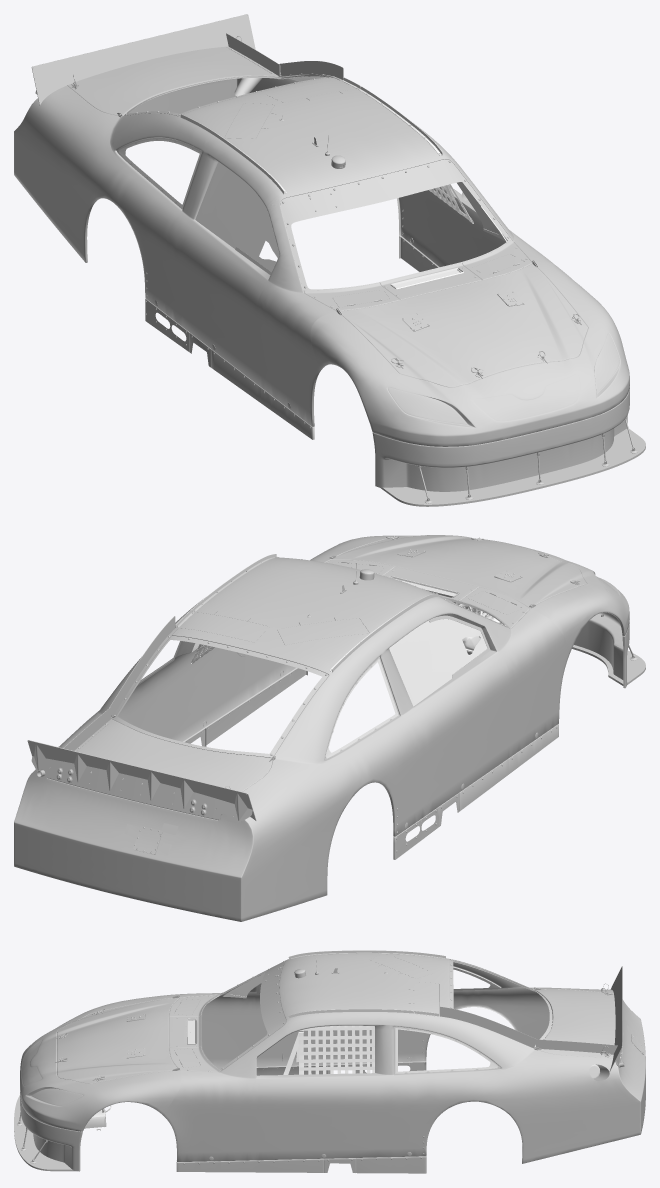
The model's file is CamryTheGame2011.glb.
3 views of the same model, one above another, from view 1: azimuth 30°, elevation 25°; view 2: azimuth 150°, elevation 25°; view 3: azimuth 270°, elevation 25° (orthographic). The views are drawn at different scales.
Parts seen in each view (by area): view 1: mesh_939_mesh_939, mesh_938_mesh_938, mesh_936_mesh_936, mesh_943_mesh_943, mesh_944_mesh_944, mesh_1436_mesh_1436, mesh_946_mesh_946, mesh_940_mesh_940, mesh_942_mesh_942, mesh_937_mesh_937, mesh_945_mesh_945, mesh_941_mesh_941; view 2: mesh_939_mesh_939, mesh_936_mesh_936, mesh_944_mesh_944, mesh_938_mesh_938, mesh_943_mesh_943, mesh_937_mesh_937, mesh_1436_mesh_1436, mesh_940_mesh_940, mesh_942_mesh_942, mesh_945_mesh_945, mesh_941_mesh_941, mesh_946_mesh_946 (+1 smaller); view 3: mesh_939_mesh_939, mesh_938_mesh_938, mesh_936_mesh_936, mesh_937_mesh_937, mesh_943_mesh_943, mesh_1097_mesh_1097, mesh_942_mesh_942, mesh_940_mesh_940, mesh_945_mesh_945, mesh_946_mesh_946, mesh_941_mesh_941, mesh_969_mesh_969 (+2 smaller).
Boxes of the visible parts, box(x1,y1,x2,y2) form: mesh_939_mesh_939: box(14, 72, 553, 439); mesh_938_mesh_938: box(310, 260, 629, 491); mesh_936_mesh_936: box(337, 260, 587, 387); mesh_943_mesh_943: box(67, 46, 280, 116); mesh_944_mesh_944: box(31, 14, 255, 105); mesh_1436_mesh_1436: box(195, 162, 279, 272); mesh_946_mesh_946: box(381, 428, 645, 506); mesh_940_mesh_940: box(118, 73, 527, 428); mesh_942_mesh_942: box(224, 80, 524, 307); mesh_937_mesh_937: box(110, 76, 324, 211); mesh_945_mesh_945: box(226, 33, 343, 80); mesh_941_mesh_941: box(180, 77, 442, 194); mesh_939_mesh_939: box(14, 557, 570, 921); mesh_936_mesh_936: box(331, 535, 586, 608); mesh_944_mesh_944: box(27, 740, 256, 823); mesh_938_mesh_938: box(310, 535, 629, 688); mesh_943_mesh_943: box(47, 719, 273, 819); mesh_937_mesh_937: box(98, 605, 402, 764); mesh_1436_mesh_1436: box(389, 619, 487, 706); mesh_940_mesh_940: box(111, 556, 557, 858); mesh_942_mesh_942: box(175, 561, 522, 644); mesh_945_mesh_945: box(63, 616, 178, 751); mesh_941_mesh_941: box(175, 554, 438, 672); mesh_946_mesh_946: box(572, 645, 645, 685); mesh_939_mesh_939: box(163, 953, 645, 1173); mesh_938_mesh_938: box(20, 994, 181, 1171); mesh_936_mesh_936: box(57, 995, 179, 1083); mesh_937_mesh_937: box(394, 958, 535, 1076); mesh_943_mesh_943: box(534, 987, 615, 1058); mesh_1097_mesh_1097: box(283, 1025, 374, 1074); mesh_942_mesh_942: box(174, 954, 439, 1067); mesh_940_mesh_940: box(170, 952, 643, 1172); mesh_945_mesh_945: box(440, 1006, 617, 1054); mesh_946_mesh_946: box(14, 1095, 76, 1171); mesh_941_mesh_941: box(288, 950, 445, 1017); mesh_969_mesh_969: box(395, 967, 500, 1073).
Bounding box in the file's own units: 1.85 × 1.44 × 5.12.
Materials: 40 (1 with a texture image).
